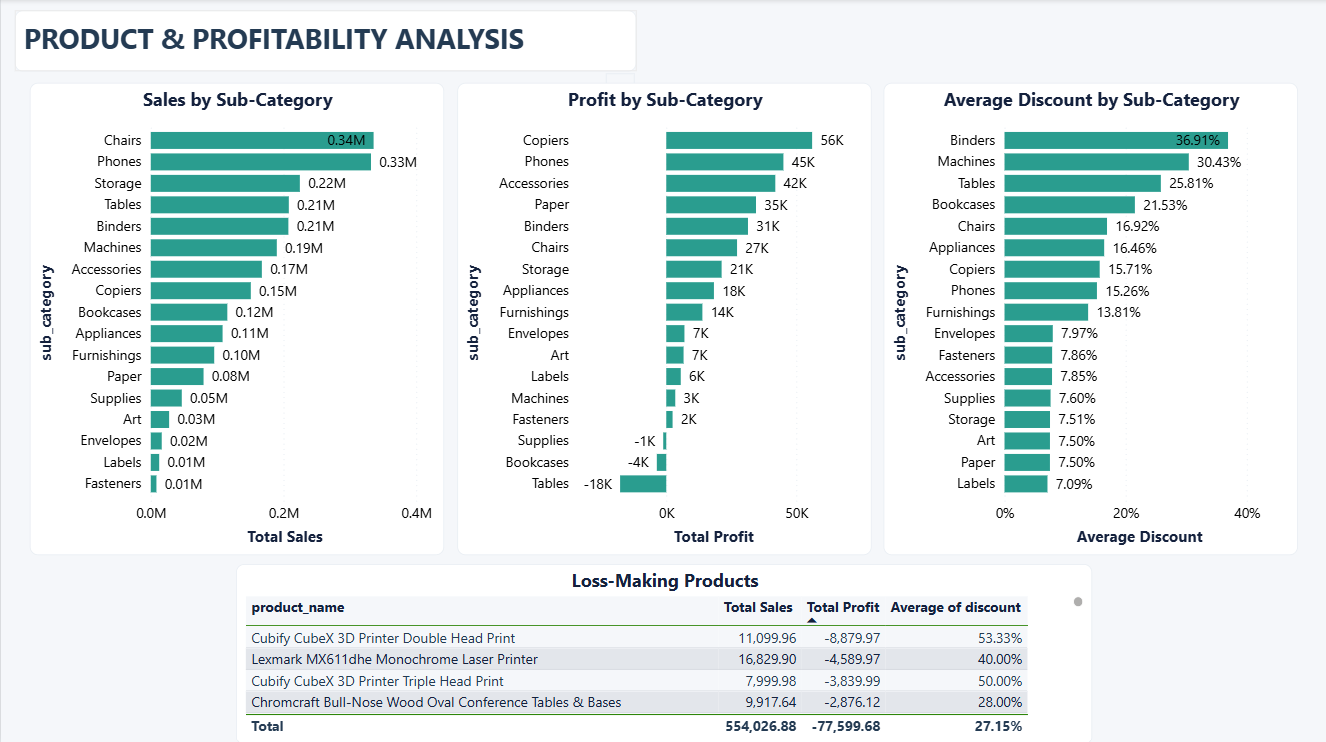

The dashboard page shown, as its layout file describes it:
{"tool":"powerbi","page":{"name":"Product Analysis","canvas":[1280,720],"ordinal":1},"visuals":[{"type":"textbox","box":[13.3,10.9,599.6,59.1],"z":0},{"type":"clusteredBarChart","title":"Sales by Sub-Category","fields":{"Category":["sales_performance orders.sub_category"],"Y":["sales_performance orders.Total Sales"]},"box":[28,80.8,400,456],"z":1000},{"type":"clusteredBarChart","title":"Profit by Sub-Category","fields":{"Category":["sales_performance orders.sub_category"],"Y":["sales_performance orders.Total Profit"]},"box":[440,80.8,400,456],"z":2000},{"type":"tableEx","title":"Loss-Making Products","fields":{"Values":["sales_performance orders.product_name","sales_performance orders.Total Sales","sales_performance orders.Total Profit","Avg(sales_performance orders.discount)"]},"box":[227,545.3,826.4,174.9],"z":3000},{"type":"clusteredBarChart","title":"Average Discount by Sub-Category","fields":{"Category":["sales_performance orders.sub_category"],"Y":["Avg(sales_performance orders.discount)"]},"box":[852,80.8,400,456],"z":4000}]}

Visuals, with their boxes in screenshot pixels (x1, y1, x2, y2), scaled from the page's 1280x720 canvas onto the 1326x742 screenshot:
textbox: 14/11/635/72
"Sales by Sub-Category" clusteredBarChart: 29/83/443/553
"Profit by Sub-Category" clusteredBarChart: 456/83/870/553
"Loss-Making Products" tableEx: 235/562/1091/741
"Average Discount by Sub-Category" clusteredBarChart: 883/83/1297/553
